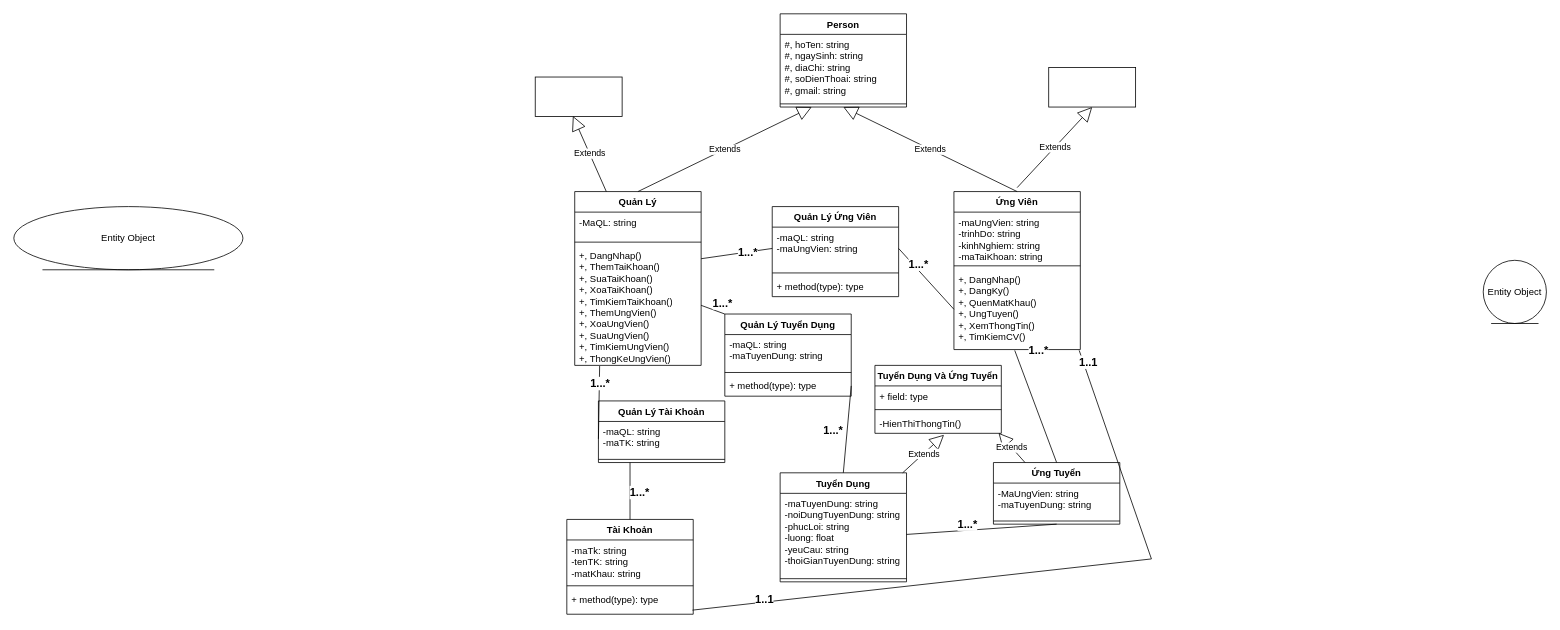
Image size: 1560x630. Some labels were removed from this diagram. Each missing label, with the centre of its shape:
«interface» IQUANLY: (x=578, y=96)
«interface» IUNGVIEN: (x=1092, y=87)
